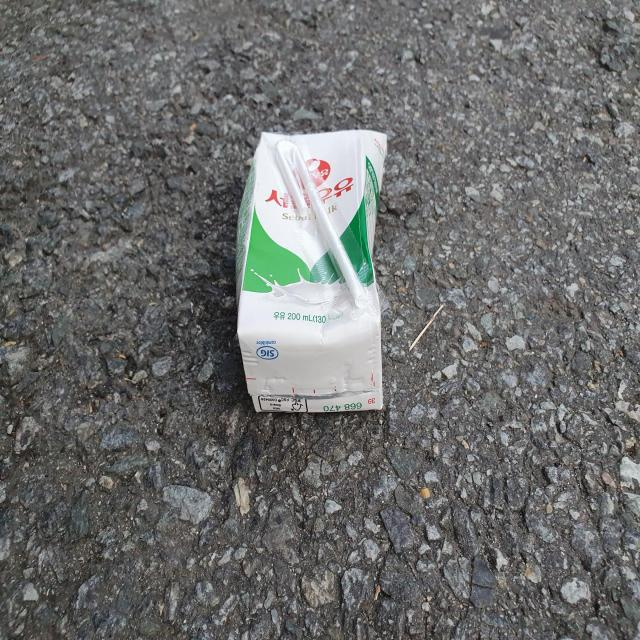paperpack: (236, 129, 387, 412)
